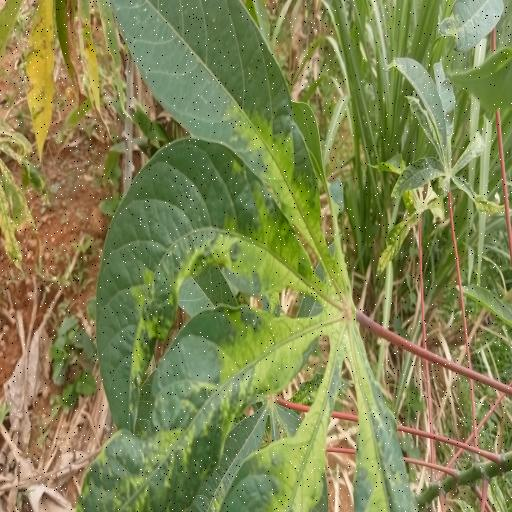Cassava_Mosaic: (79, 0, 413, 512), (375, 55, 509, 282)
